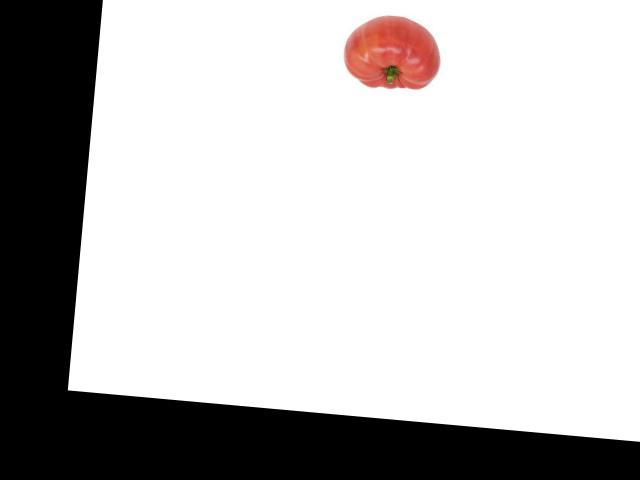tomato: (340, 12, 443, 91)
